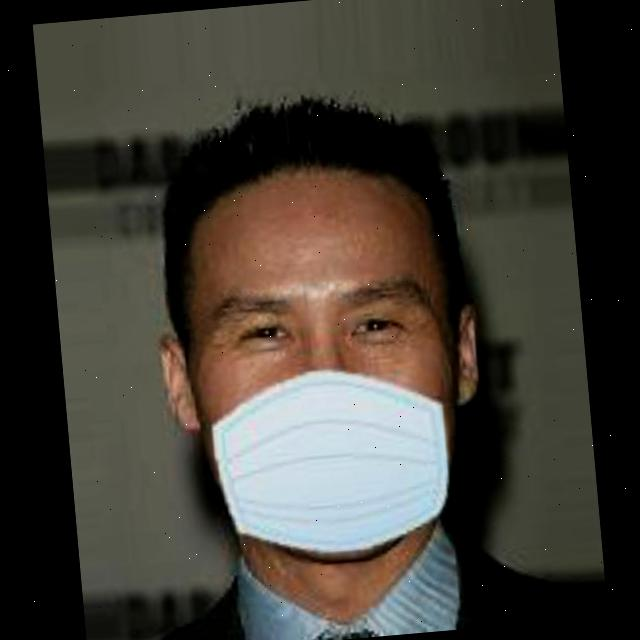suspicion: (150, 138, 516, 584)
